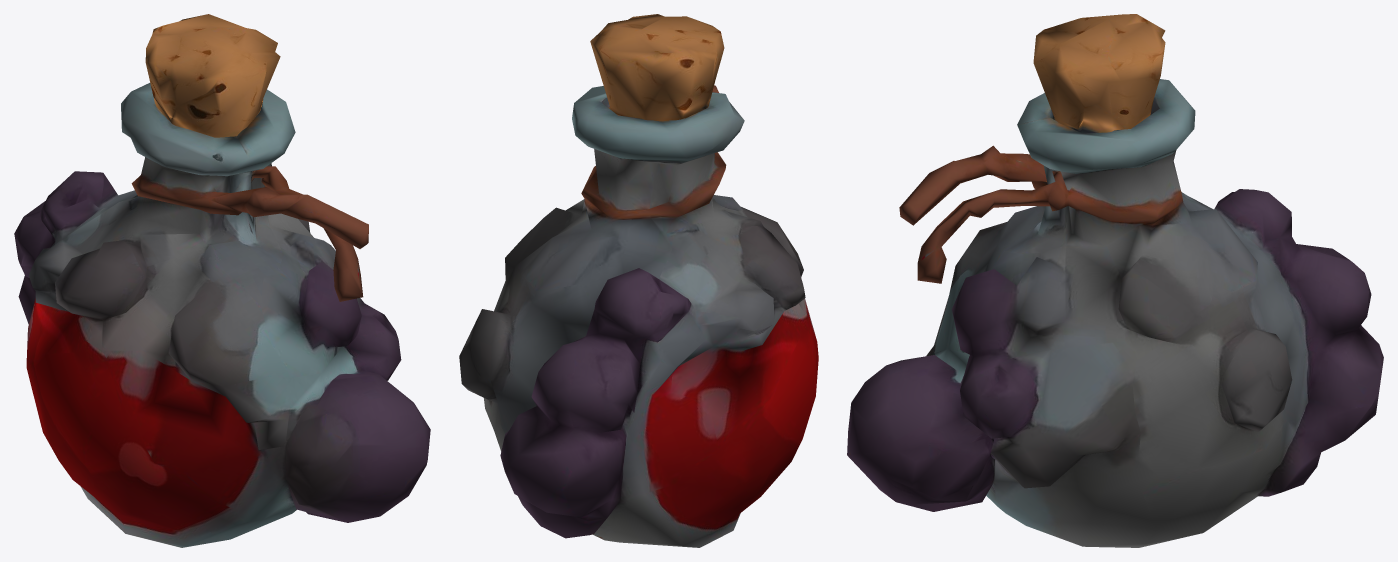
Rendered from potion.glb.
3 views of the same model, side by side, from view 1: azimuth 30°, elevation 25°; view 2: azimuth 150°, elevation 25°; view 3: azimuth 270°, elevation 25° (orthographic). The views are drawn at different scales.
Parts seen in each view (by area): view 1: tripo_node_0e497af7-b54a-4ba3-97dd-01c10037ea0a; view 2: tripo_node_0e497af7-b54a-4ba3-97dd-01c10037ea0a; view 3: tripo_node_0e497af7-b54a-4ba3-97dd-01c10037ea0a.
Part boxes in pixels (box(x1,y1,x2,y2)): tripo_node_0e497af7-b54a-4ba3-97dd-01c10037ea0a: box(14, 14, 430, 547); tripo_node_0e497af7-b54a-4ba3-97dd-01c10037ea0a: box(459, 14, 818, 547); tripo_node_0e497af7-b54a-4ba3-97dd-01c10037ea0a: box(847, 14, 1383, 547).
Size of the model in its own units: 0.6463 by 0.9975 by 0.9722.
Materials: 1 (1 with a texture image).
